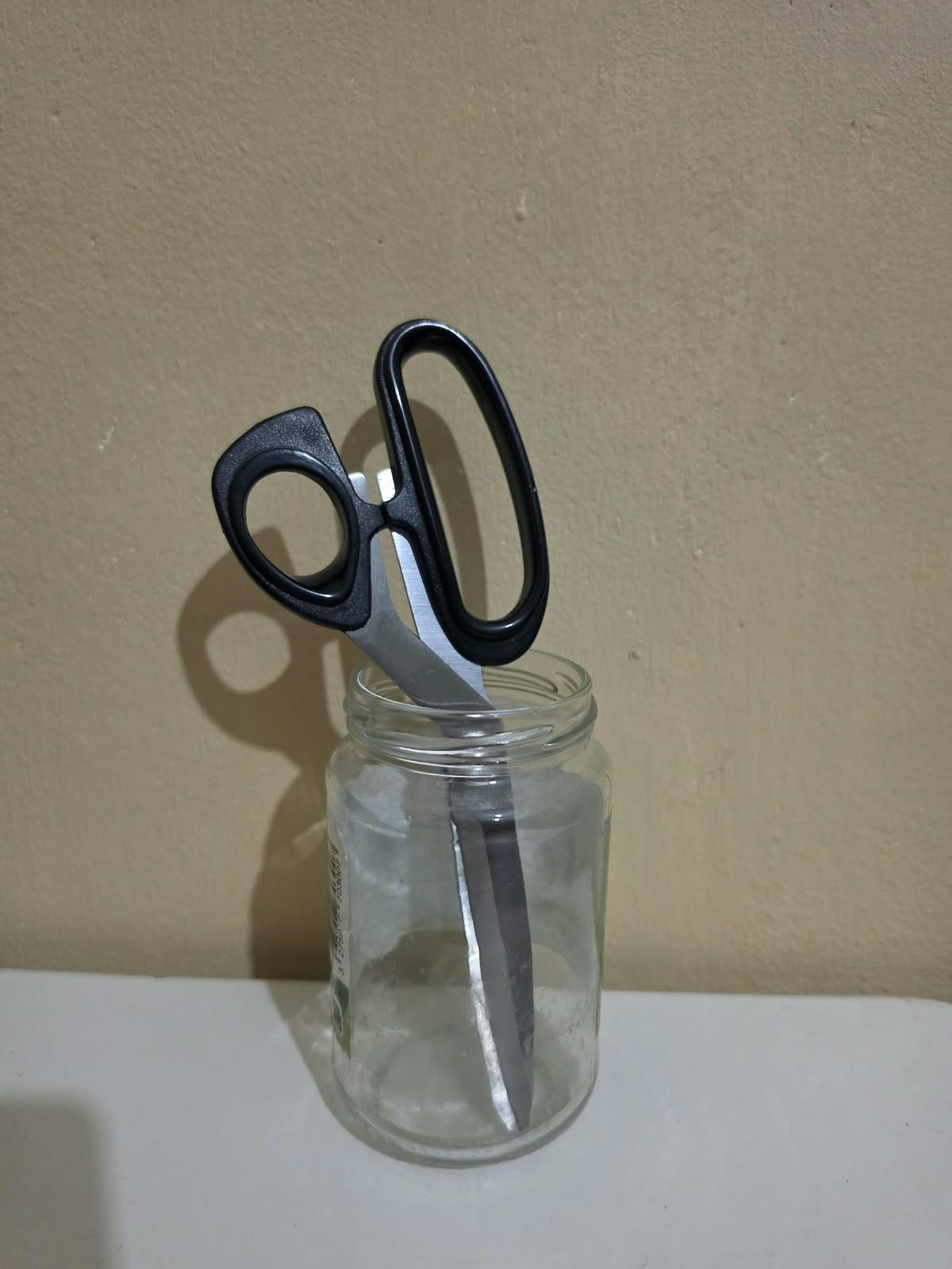scissors: (211, 318, 551, 1134)
